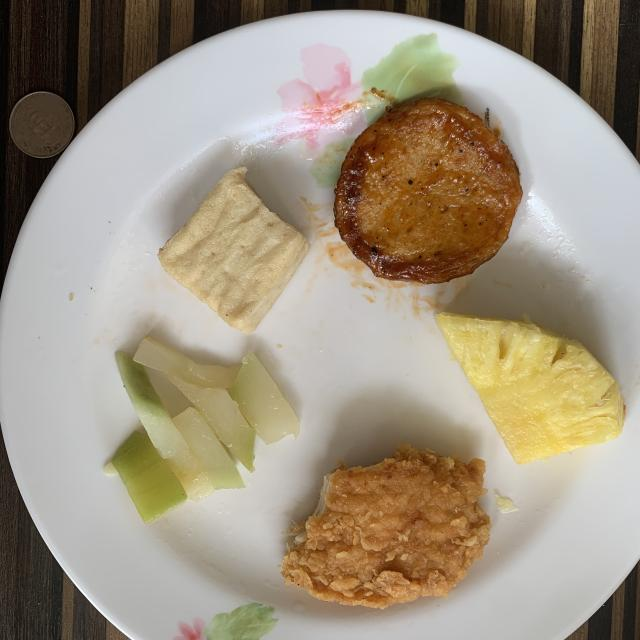coin: (9, 91, 75, 159)
creamy tofu -without sauce-: (159, 168, 310, 334)
fish cake: (334, 98, 522, 284)
fried chicken cutlet: (281, 445, 491, 609)
pineapple: (435, 312, 624, 464)
